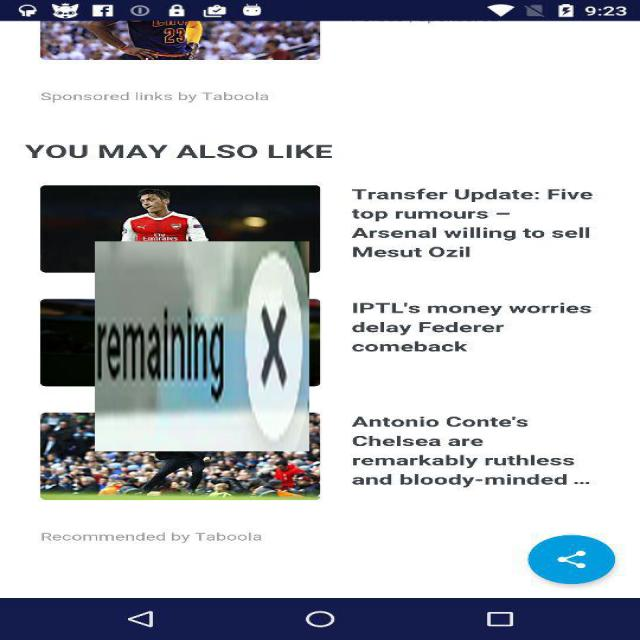misdirection: (95, 242, 309, 452)
